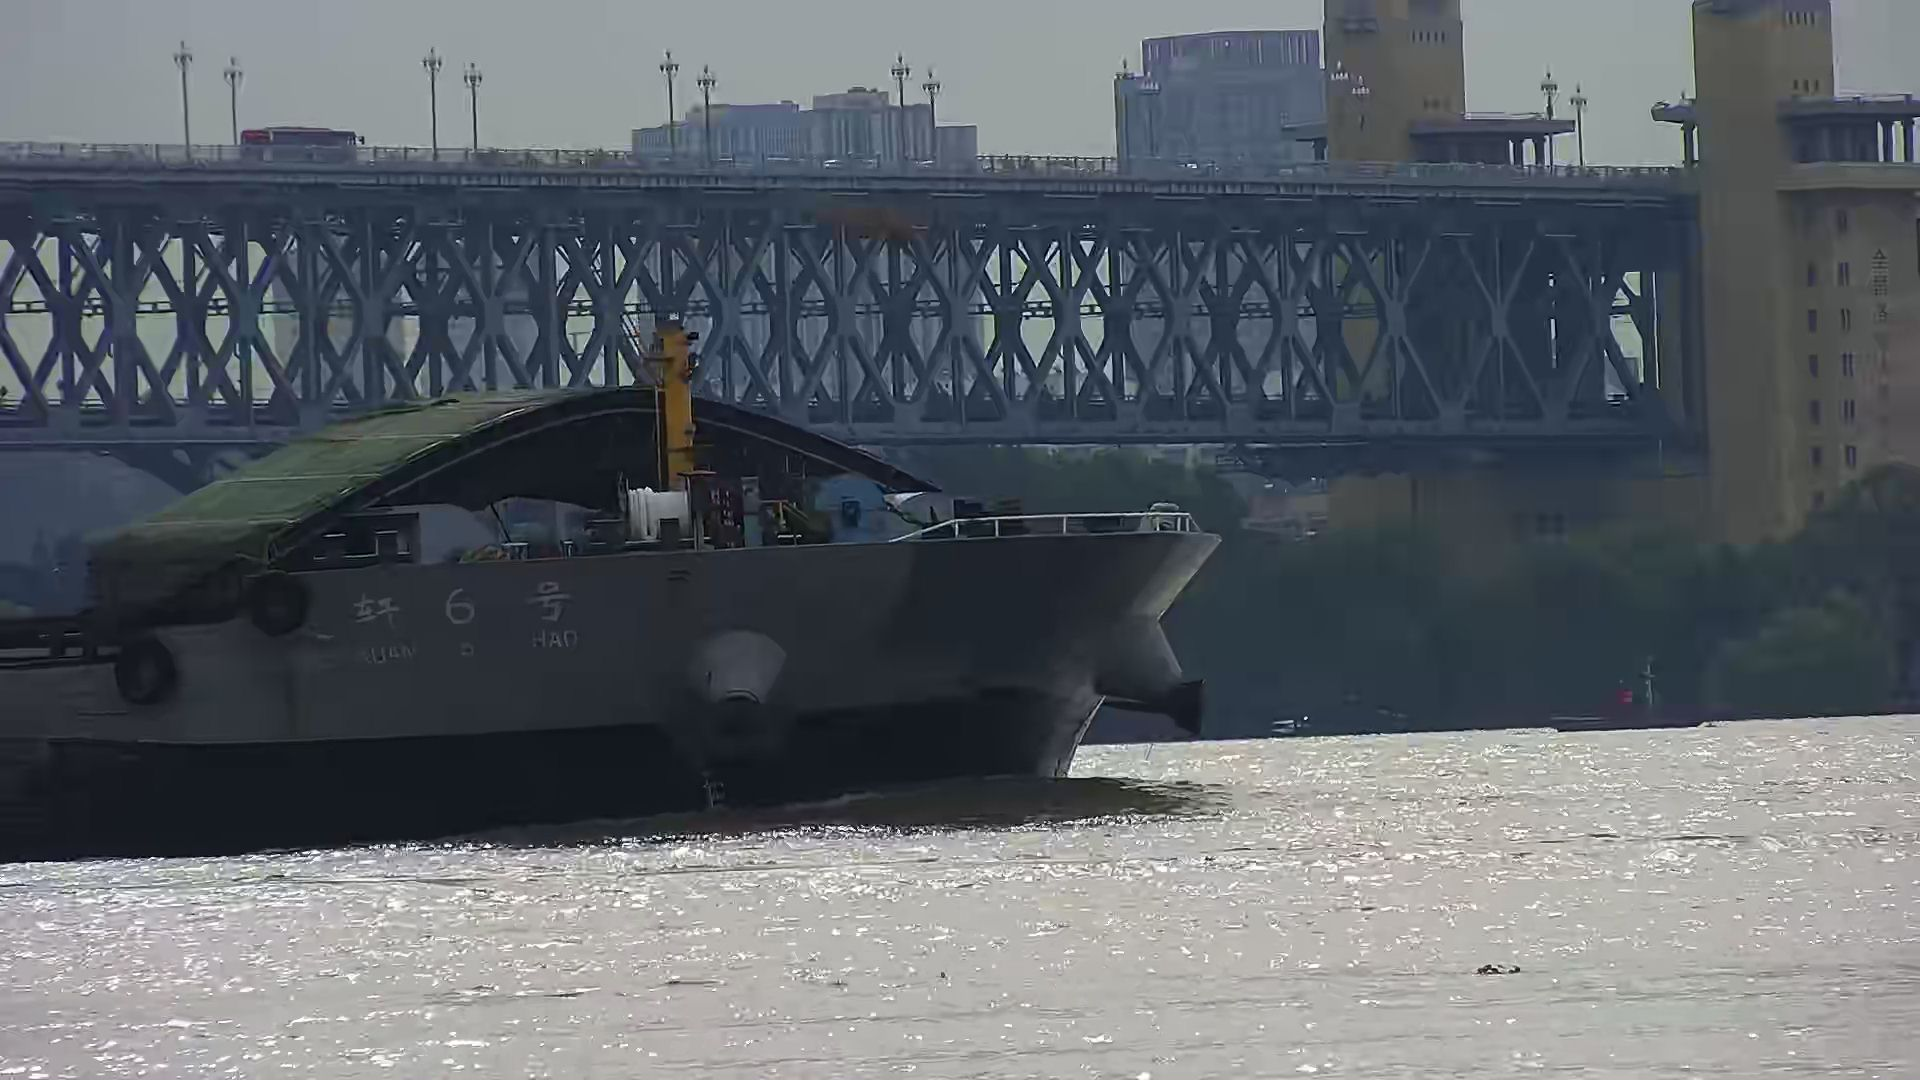boat: (1538, 673, 1745, 738)
bridge: (11, 33, 1729, 568)
ship: (1, 291, 1266, 851)
